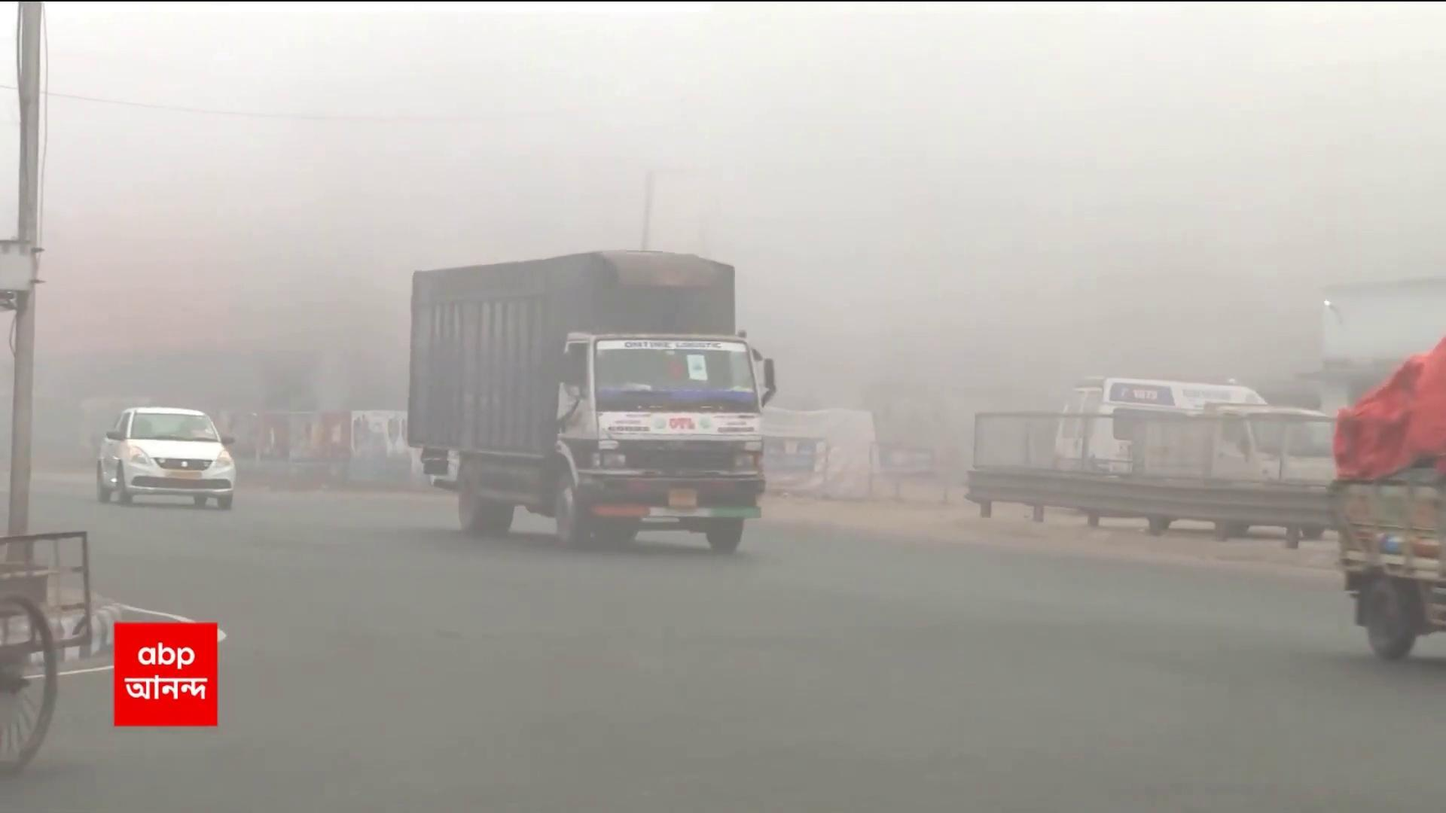Car: (95, 405, 237, 512)
Truck: (404, 245, 770, 549)
